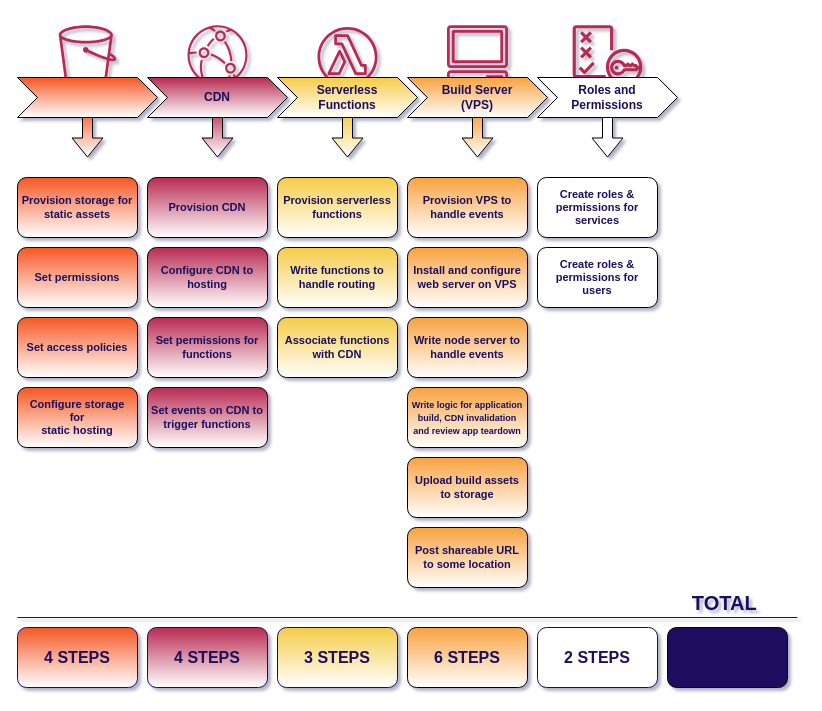
Image size: 822x711. Some labels were removed from this diagram. Here are the shapes that lost their labels. From the top down, the centre of each, then its label:
(x=87, y=97): Storage
(x=727, y=657): 19 STEPS
